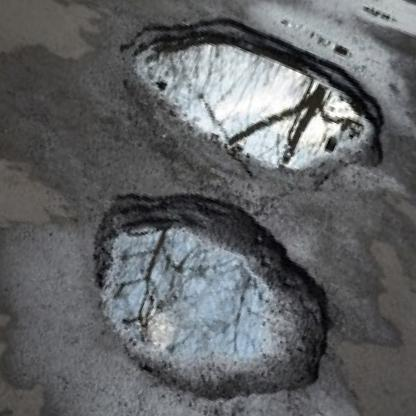pothole: (49, 160, 368, 416), (95, 0, 413, 229)
